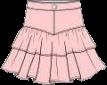Hemline: (1, 65, 105, 84), (12, 46, 95, 55)
Waistline: (23, 25, 84, 35), (27, 7, 81, 10), (27, 0, 79, 3)
